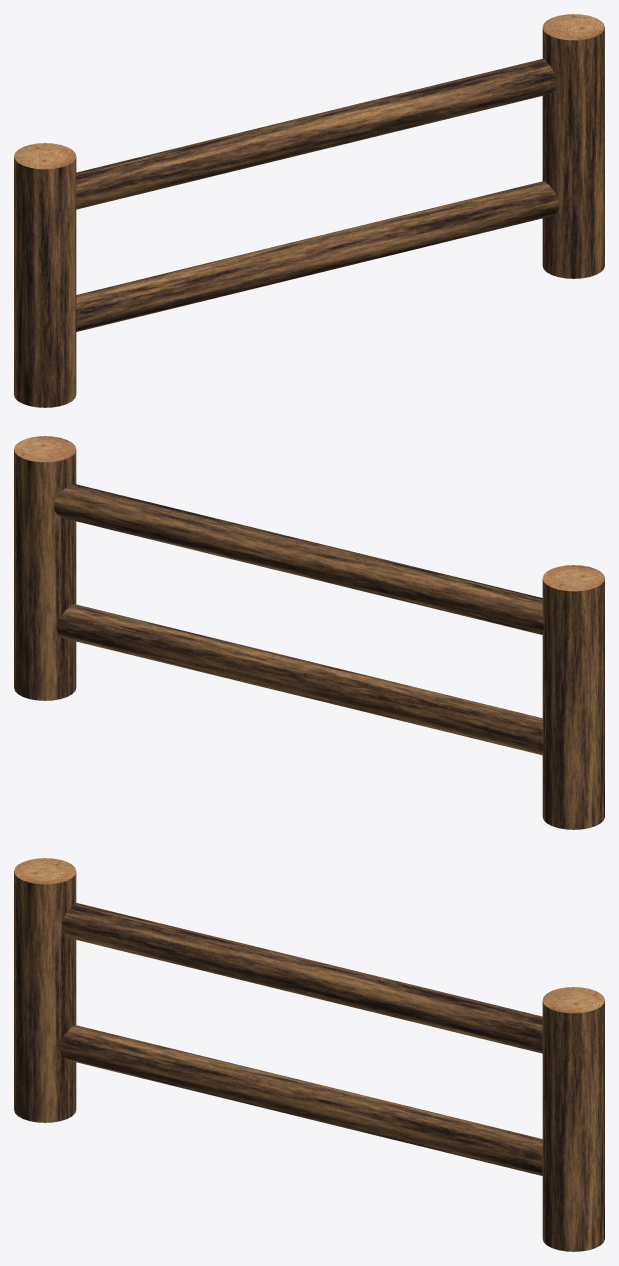
File: fence.glb
3 renders of one model, top to bottom at view 1: azimuth 30°, elevation 25°; view 2: azimuth 150°, elevation 25°; view 3: azimuth 330°, elevation 25°, orthographic.
Parts seen in each view (by area): view 1: _(Loose Entity); view 2: _(Loose Entity); view 3: _(Loose Entity).
Boxes of the visible parts, left/top/right/bottom form: _(Loose Entity): left=14, top=14, right=604, bottom=407; _(Loose Entity): left=14, top=436, right=604, bottom=829; _(Loose Entity): left=14, top=858, right=604, bottom=1251.
Size of the model in its own units: 3.08 by 1.2 by 0.2858.
Materials: 3 (2 with a texture image).
